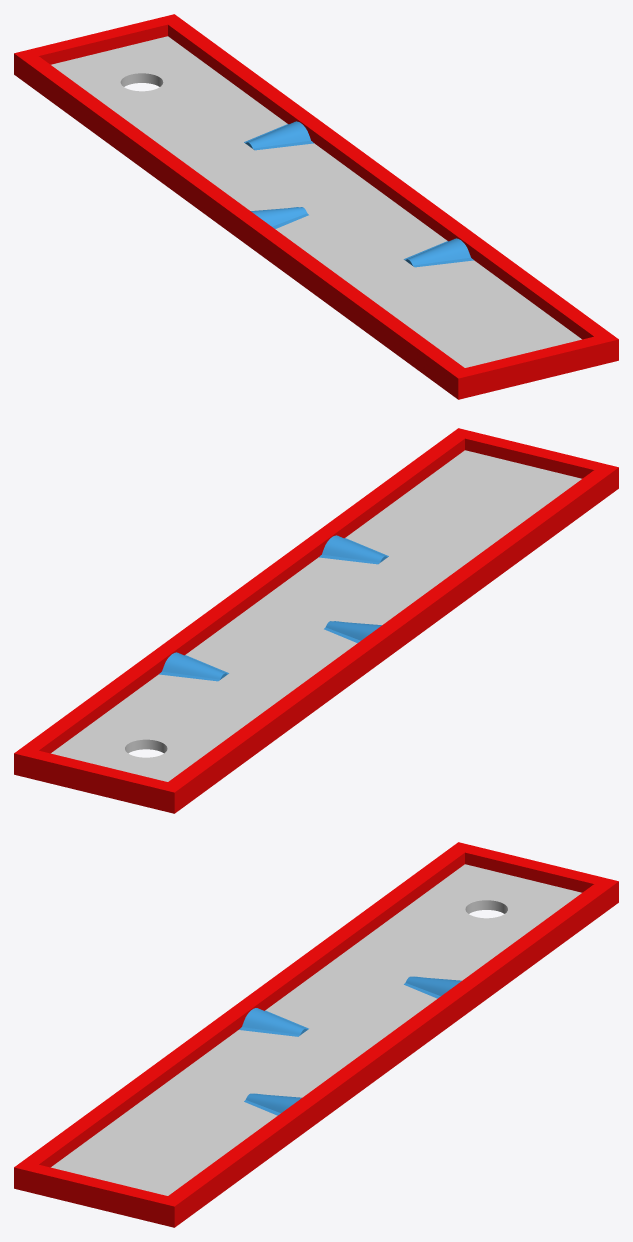
The model's file is BahnM2.fbx.
The picture shows the model from 3 angles, top to bottom: view 1: azimuth 30°, elevation 25°; view 2: azimuth 150°, elevation 25°; view 3: azimuth 330°, elevation 25°; orthographic projection.
Visible parts, largest first — view 1: Track2; view 2: Track2; view 3: Track2.
Part boxes in pixels (bbox=[...]): Track2: bbox=[14, 14, 618, 399]; Track2: bbox=[14, 428, 618, 813]; Track2: bbox=[14, 842, 618, 1227].
Bounding box in the file's own units: 87 × 11 × 417.
